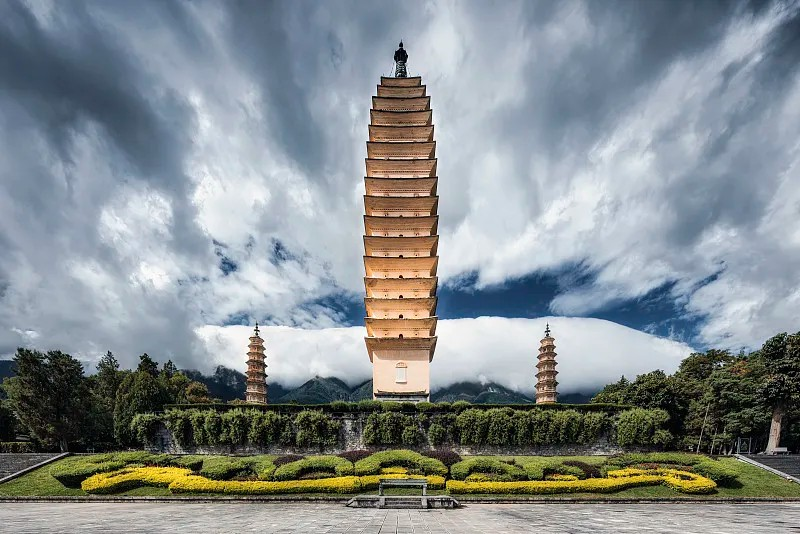ThreePagoda: (363, 42, 438, 398)
